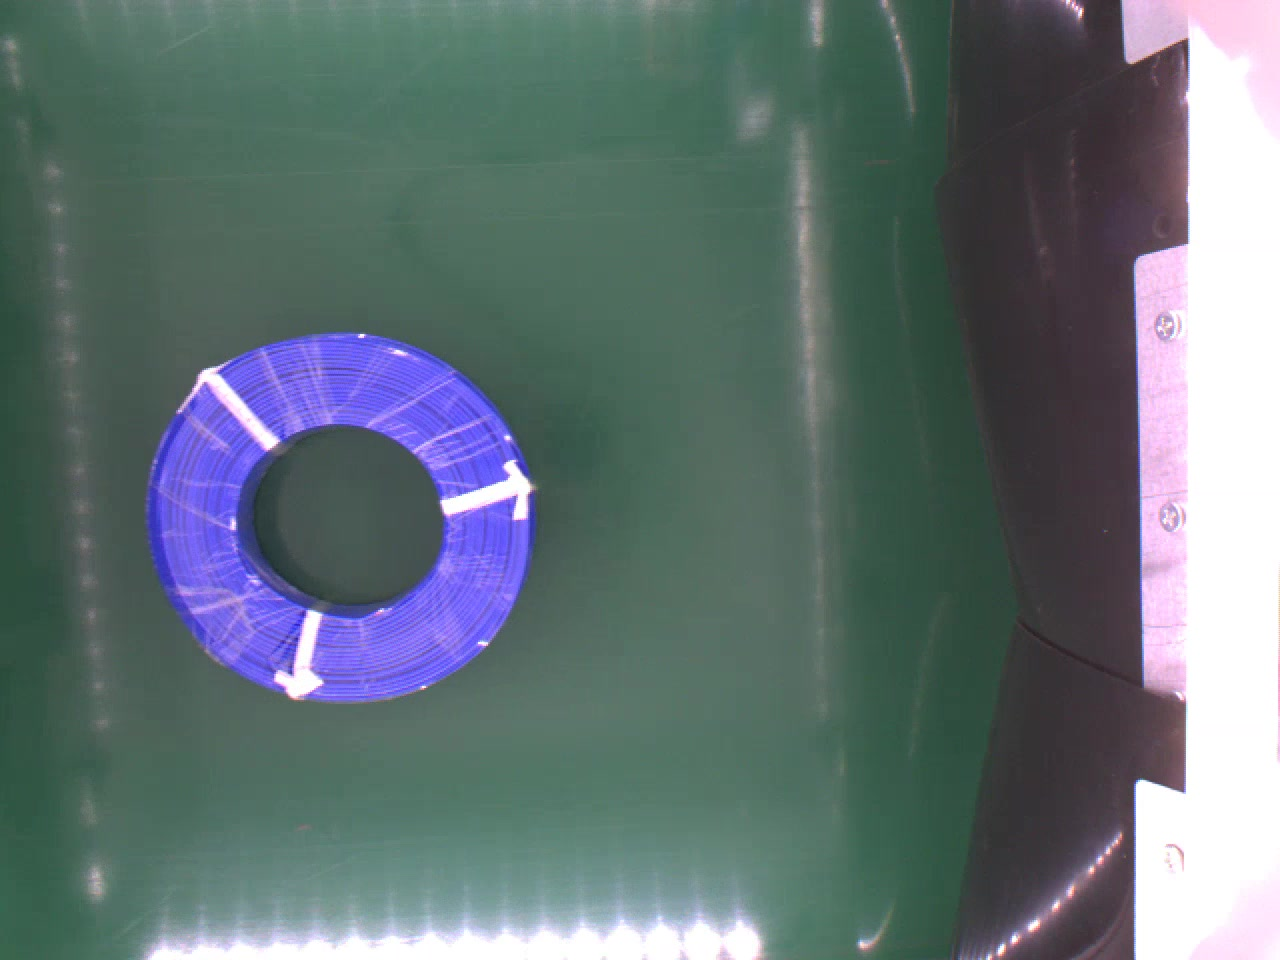blue: (144, 325, 532, 707)
